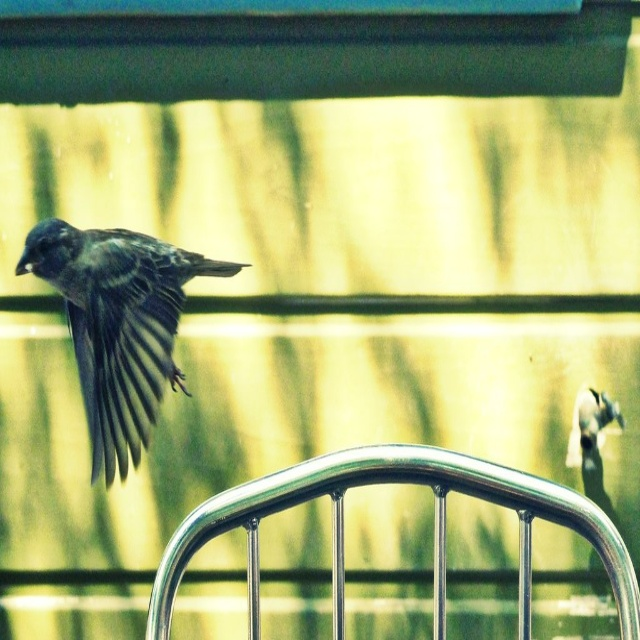Raven: (17, 213, 241, 497)
